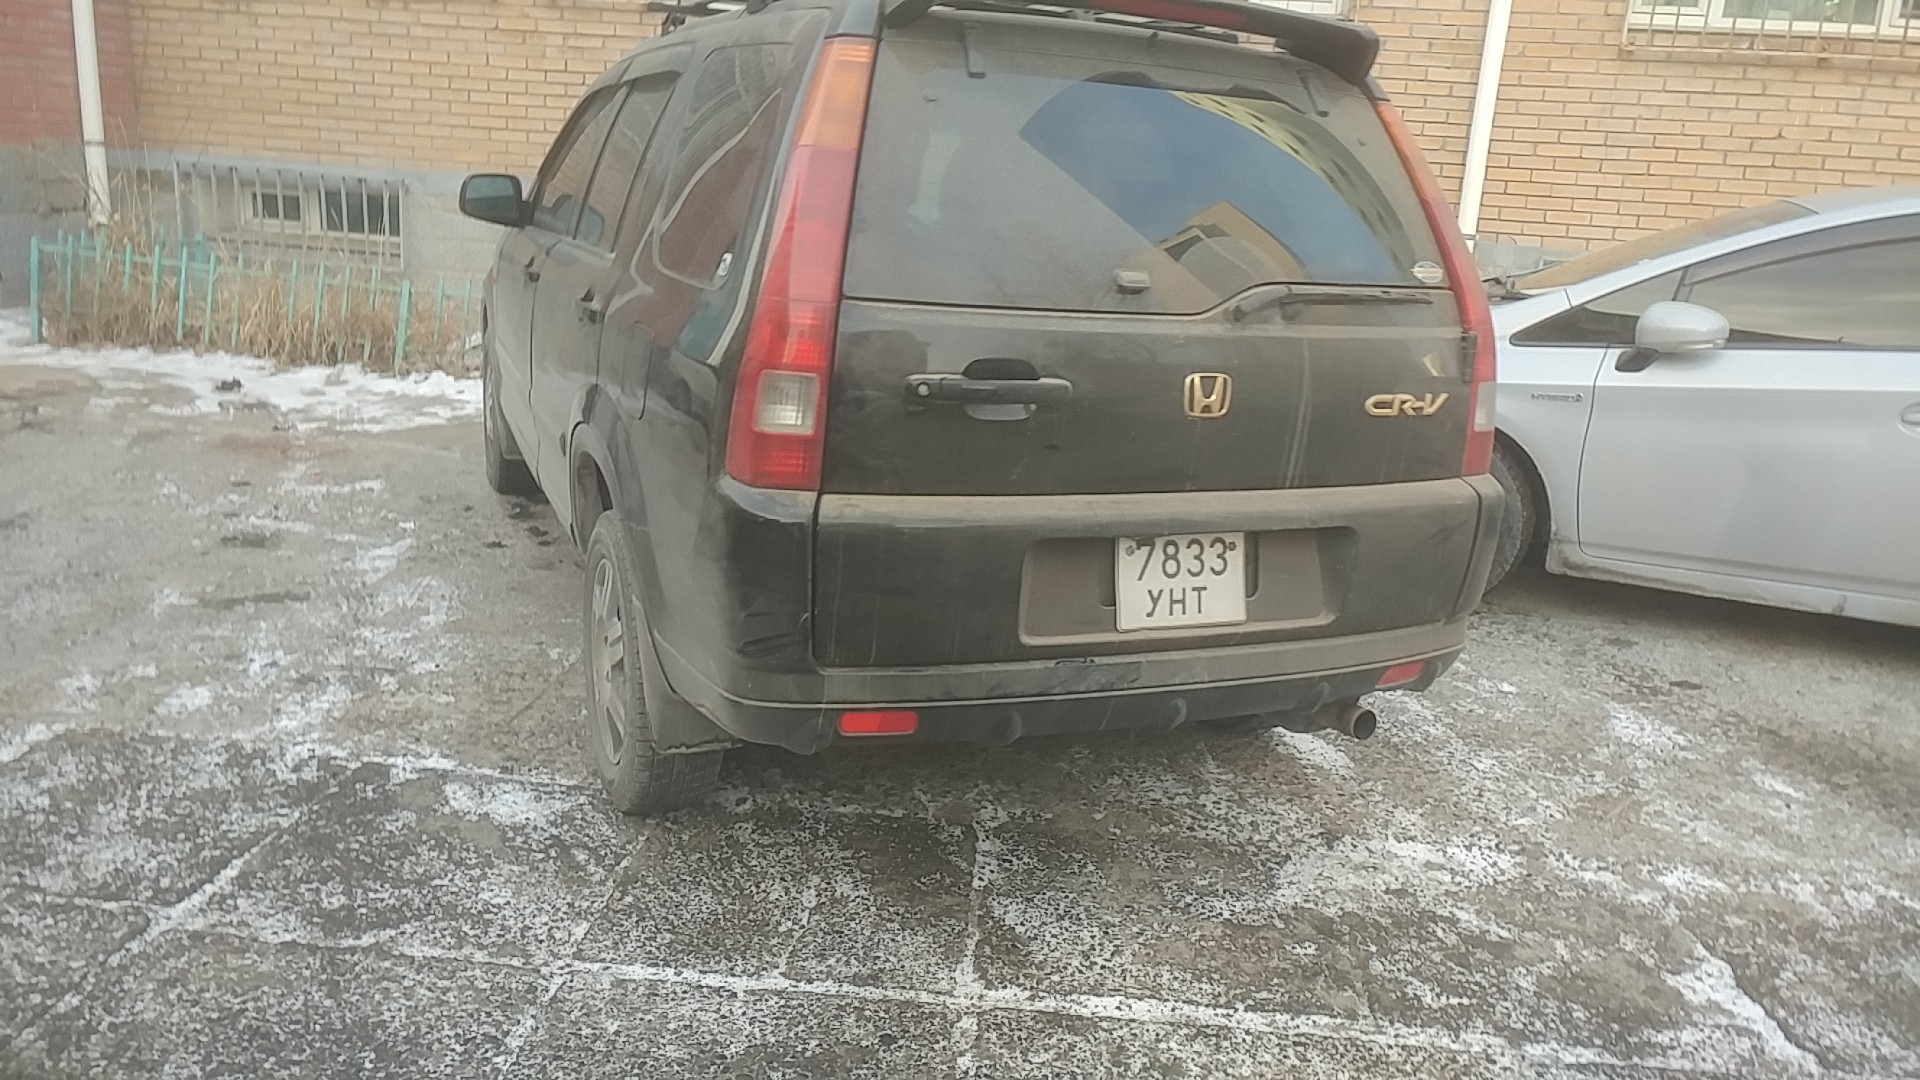3: (1186, 536, 1208, 579), (1208, 535, 1231, 575)
7: (1134, 538, 1158, 582)
8: (1161, 538, 1183, 580)
n: (1168, 586, 1187, 616)
plate: (1114, 527, 1252, 631)
t: (1191, 585, 1208, 615)
u: (1146, 588, 1163, 619)
